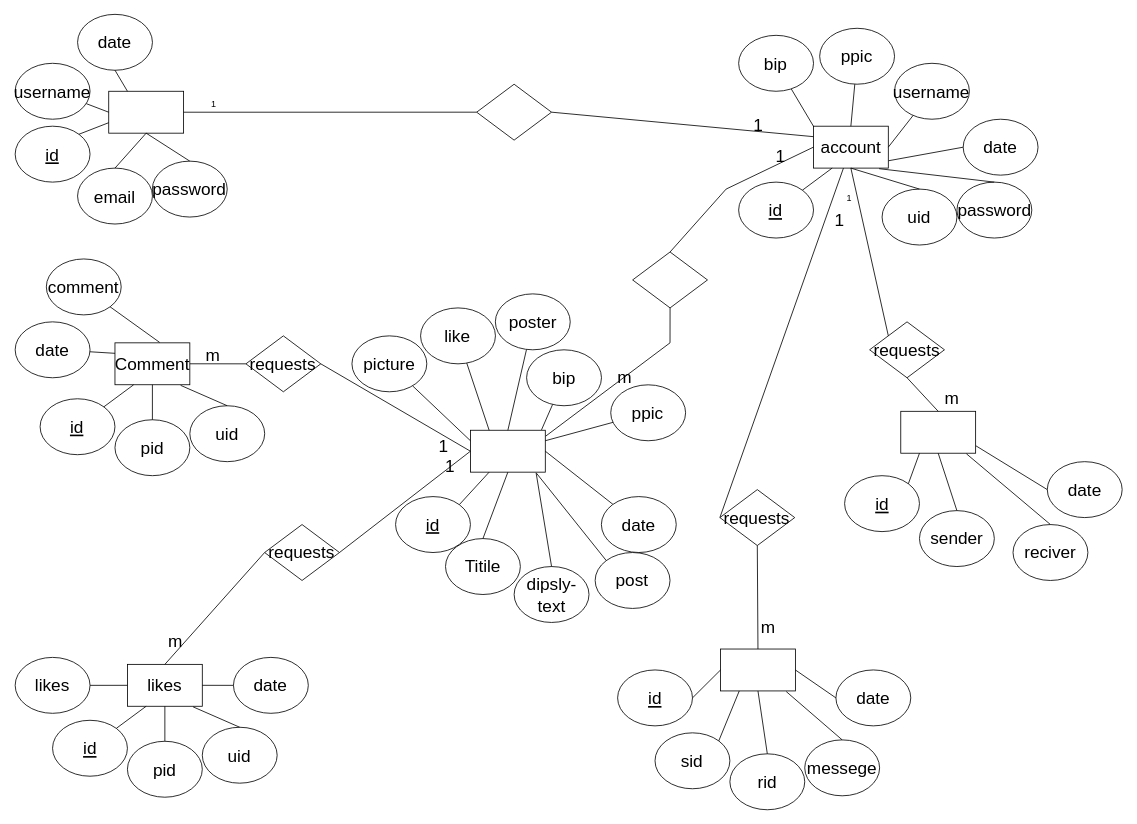
This 1137x824 diagram has some shape labels left out. Here are the shapes that lost their labels. From the top down, the box of each, then its label:
(108, 90, 184, 133): Login
(476, 83, 552, 140): creates
(632, 251, 707, 308): makes
(470, 429, 545, 472): posts
(900, 410, 976, 453): follower
(720, 648, 795, 691): messages
